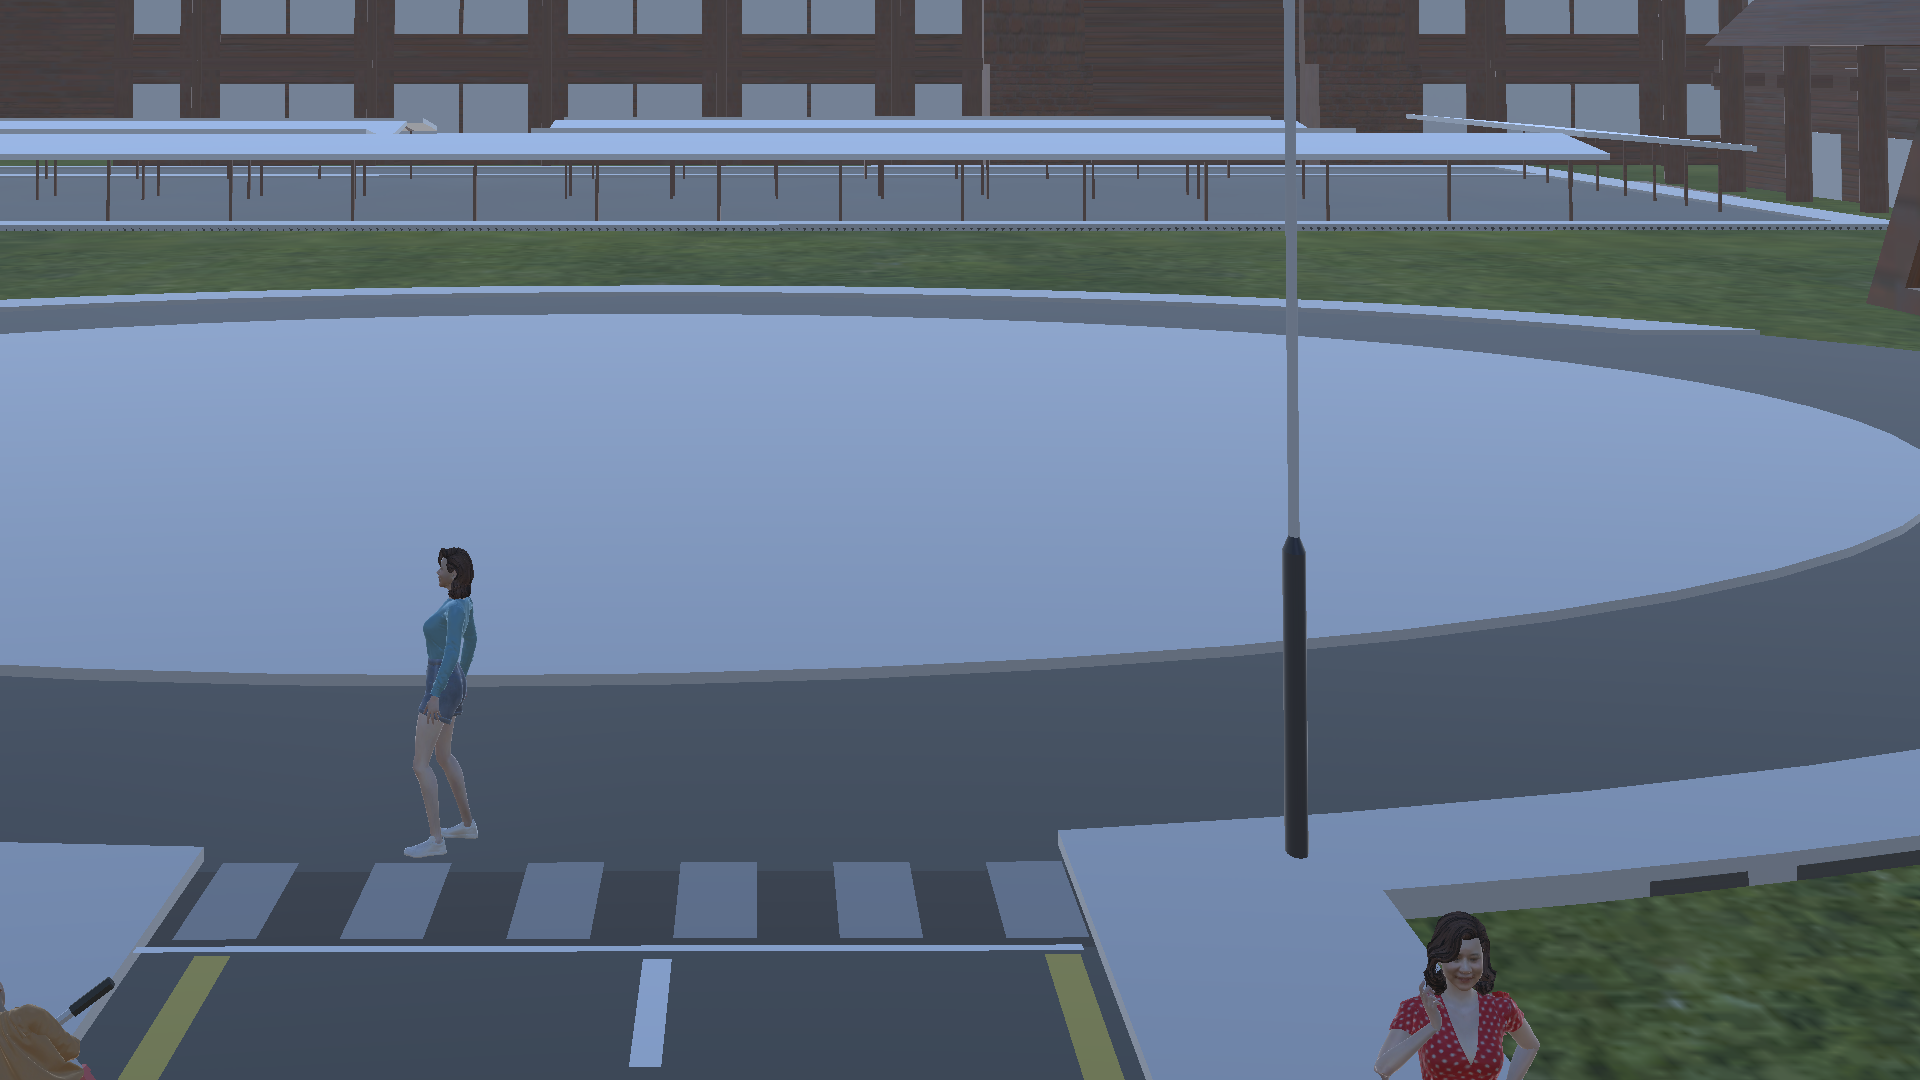pedestrian: (395, 537, 496, 867), (1382, 908, 1540, 1080)
